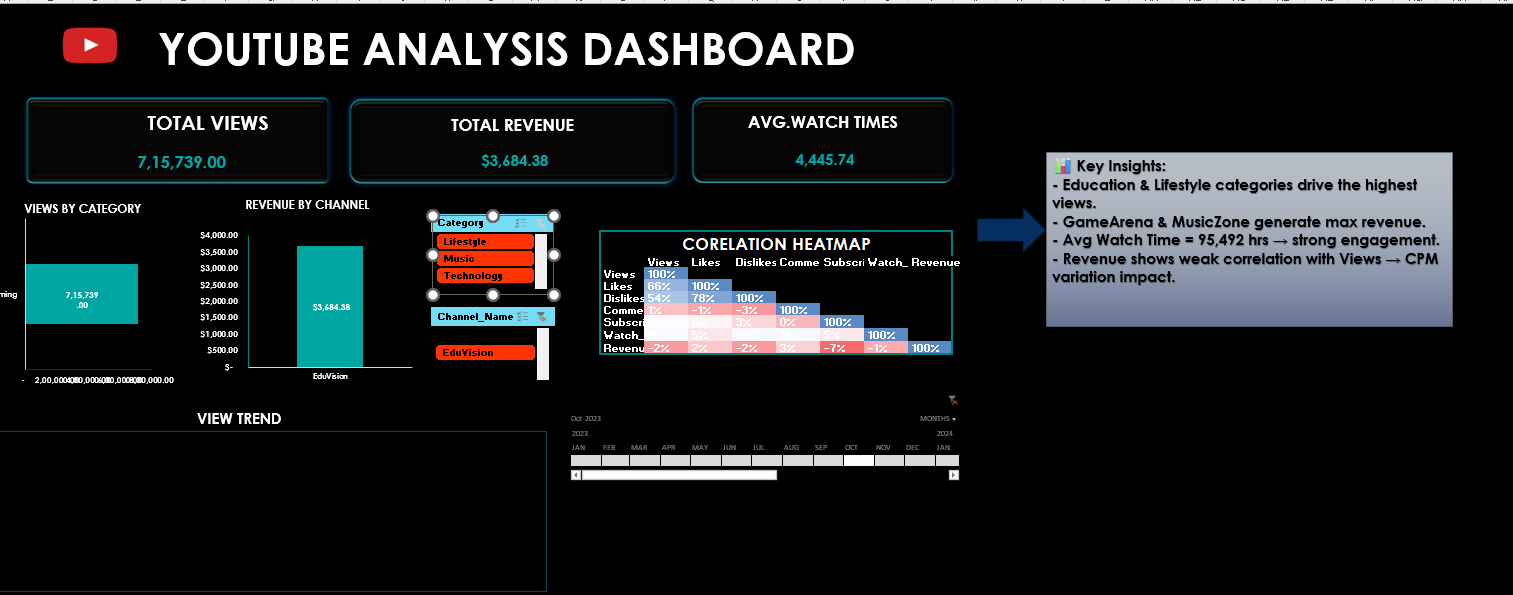

The dashboard page shown, as its layout file describes it:
{"tool":"powerbi","page":{"name":"Page 1","canvas":[1280,720],"ordinal":0},"visuals":[{"type":"image","box":[160,0,240,112],"z":0},{"type":"textbox","box":[176,0,1104,112],"z":1000},{"type":"card","fields":{"Values":["Sum(youtube_data.Views)"]},"box":[0,96,336,144],"z":2000},{"type":"card","fields":{"Values":["Sum(youtube_data.Subscribers_Gained)"]},"box":[336,96,368,144],"z":3000},{"type":"card","fields":{"Values":["Sum(youtube_data.Likes)"]},"box":[704,96,288,144],"z":4000},{"type":"card","fields":{"Values":["Sum(youtube_data.Comments)"]},"box":[976,96,304,144],"z":5000},{"type":"slicer","fields":{"Values":["youtube_data.Channel_Name"]},"box":[0,240,176,160],"z":6000},{"type":"slicer","fields":{"Values":["youtube_data.Category"]},"box":[0,416,176,144],"z":7000},{"type":"slicer","fields":{"Values":["youtube_data.Upload_Date"]},"box":[0,576,176,144],"z":8000},{"type":"lineChart","fields":{"Y":["Sum(youtube_data.Views)"],"Category":["youtube_data.Watch_Time_Hours"]},"box":[192,240,560,144],"z":9000},{"type":"barChart","fields":{"Y":["CountNonNull(youtube_data.Video_ID)"],"Category":["youtube_data.Views"]},"box":[768,240,512,144],"z":10000},{"type":"columnChart","fields":{"Category":["youtube_data.Category"],"Y":["Sum(youtube_data.Revenue_USD)"]},"box":[192,400,560,144],"z":11000},{"type":"pieChart","fields":{"Y":["Sum(youtube_data.Subscribers_Gained)"],"Category":["youtube_data.Channel_Name"]},"box":[768,400,512,144],"z":12000},{"type":"hundredPercentStackedBarChart","fields":{"Y":["CountNonNull(youtube_data.Video_ID)"],"Category":["youtube_data.Dislikes"]},"box":[192,560,560,160],"z":13000},{"type":"image","box":[272,176,48,48],"z":14000},{"type":"image","box":[624,176,48,48],"z":15000},{"type":"image","box":[928,176,48,48],"z":16000},{"type":"image","box":[1200,176,64,48],"z":17000},{"type":"image","box":[144,0,112,96],"z":18000},{"type":"textbox","box":[768,560,512,160],"z":19000}]}

Visuals, with their boxes on the page's 1280x720 design canvas (x1, y1, x2, y2). These are canvas units, not pixel positions in the 1513x595 screenshot, which may show the page scaled, cropped or inside an application window:
image: locate(160, 0, 400, 112)
textbox: locate(176, 0, 1280, 112)
card - Sum(youtube_data.Views): locate(0, 96, 336, 240)
card - Sum(youtube_data.Subscribers_Gained): locate(336, 96, 704, 240)
card - Sum(youtube_data.Likes): locate(704, 96, 992, 240)
card - Sum(youtube_data.Comments): locate(976, 96, 1280, 240)
slicer - youtube_data.Channel_Name: locate(0, 240, 176, 400)
slicer - youtube_data.Category: locate(0, 416, 176, 560)
slicer - youtube_data.Upload_Date: locate(0, 576, 176, 720)
lineChart - Sum(youtube_data.Views) x youtube_data.Watch_Time_Hours: locate(192, 240, 752, 384)
barChart - CountNonNull(youtube_data.Video_ID) x youtube_data.Views: locate(768, 240, 1280, 384)
columnChart - youtube_data.Category x Sum(youtube_data.Revenue_USD): locate(192, 400, 752, 544)
pieChart - Sum(youtube_data.Subscribers_Gained) x youtube_data.Channel_Name: locate(768, 400, 1280, 544)
hundredPercentStackedBarChart - CountNonNull(youtube_data.Video_ID) x youtube_data.Dislikes: locate(192, 560, 752, 720)
image: locate(272, 176, 320, 224)
image: locate(624, 176, 672, 224)
image: locate(928, 176, 976, 224)
image: locate(1200, 176, 1264, 224)
image: locate(144, 0, 256, 96)
textbox: locate(768, 560, 1280, 720)
